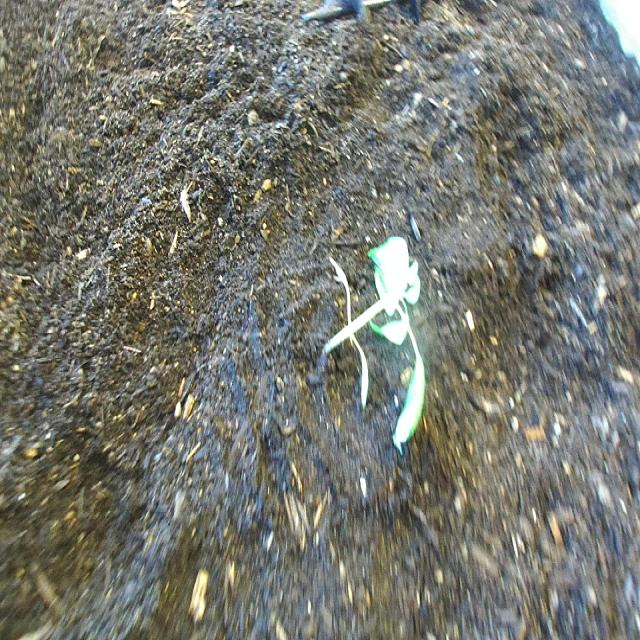Unhealthy: (304, 202, 446, 474)
